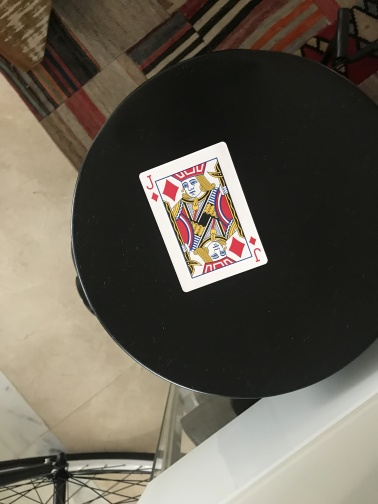jack: (138, 140, 270, 295)
